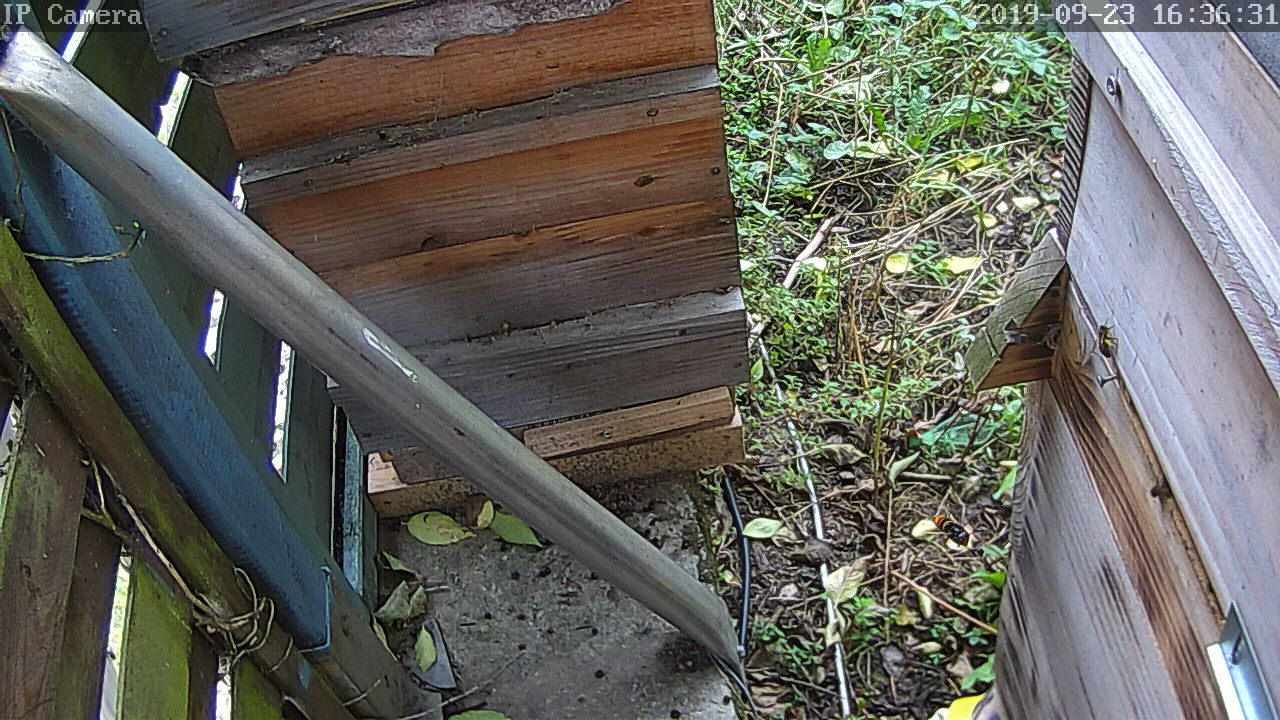bee: (1090, 315, 1120, 365), (1146, 471, 1177, 508)
hornet: (926, 506, 977, 554)
